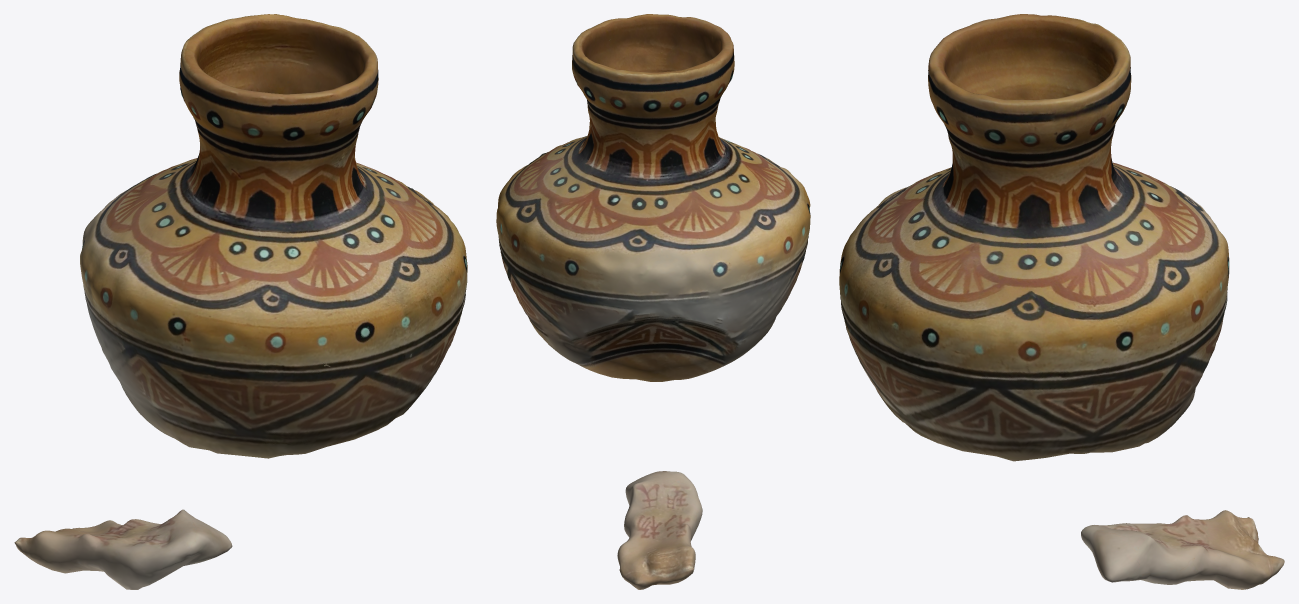
The picture shows the model from 3 angles, left to right: view 1: azimuth 30°, elevation 25°; view 2: azimuth 150°, elevation 25°; view 3: azimuth 270°, elevation 25°; orthographic projection. The views are drawn at different scales.
Size of the model in its own units: 0.484 by 0.7799 by 0.547.
Materials: 1 (1 with a texture image).
